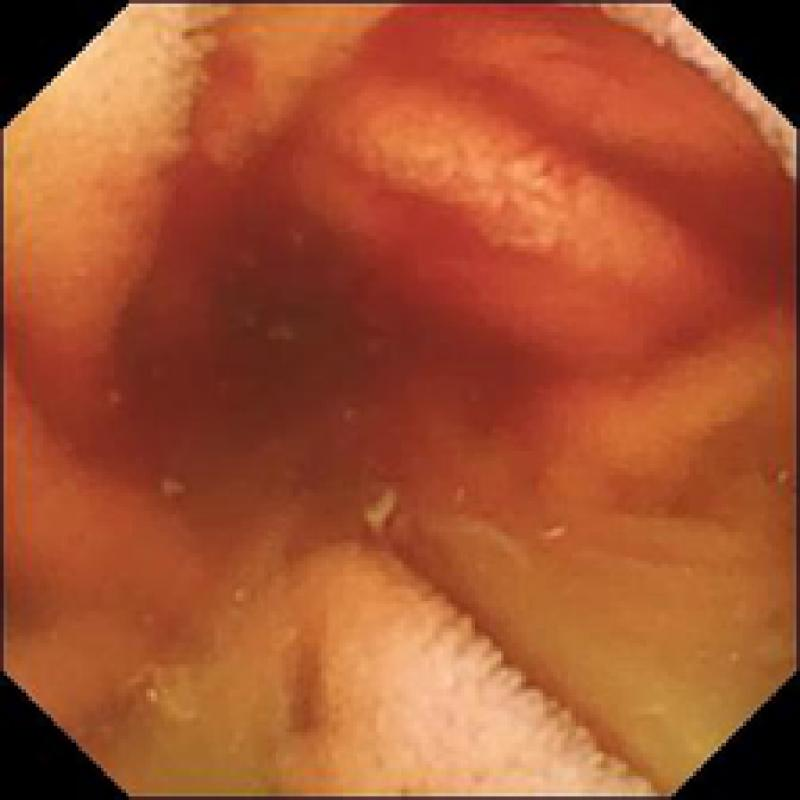bleeding: (3, 0, 800, 550)
